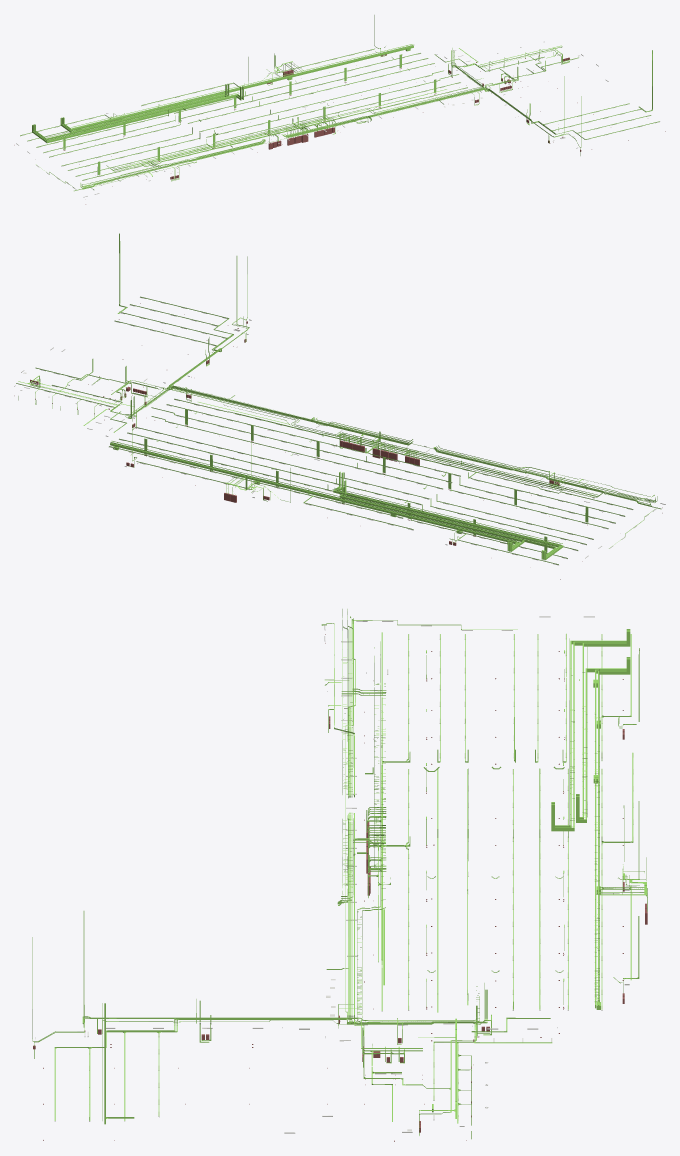
The model's file is detail-electrical-1-gf.glb.
3 renders of one model, top to bottom at view 1: azimuth 30°, elevation 25°; view 2: azimuth 150°, elevation 25°; view 3: azimuth 270°, elevation 25°, orthographic. The views are drawn at different scales.
Parts seen in each view (by area): view 1: containment, lighting, switchgear; view 2: containment, lighting, switchgear; view 3: containment, lighting, switchgear.
Part boxes in pixels (x1,y1,x2,y2): containment: (20, 15, 659, 191); lighting: (16, 41, 659, 197); switchgear: (14, 54, 665, 204); containment: (16, 233, 661, 564); lighting: (14, 297, 665, 565); switchgear: (14, 303, 662, 579); containment: (32, 609, 647, 1139); lighting: (35, 616, 636, 1133); switchgear: (33, 634, 647, 1141).
Size of the model in its own units: 136 by 17.92 by 69.45.
